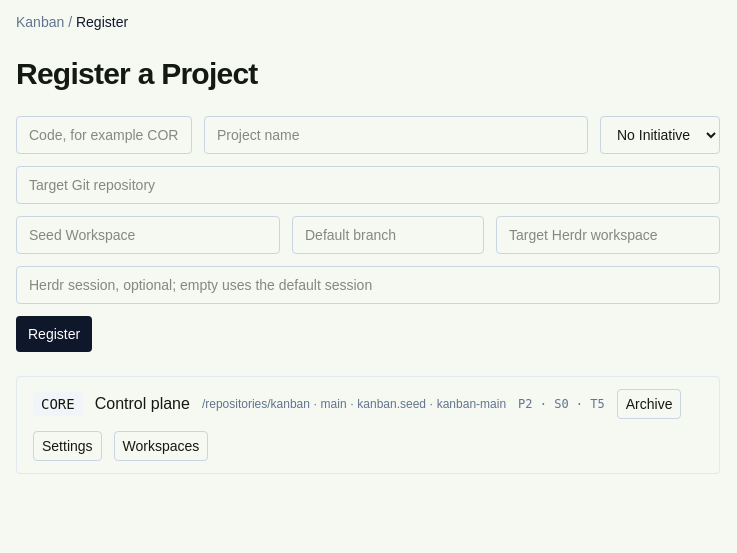
Test: RegisterView › shows the store error when a command is refused
Type "WAVE" into the field with test id "project-code".
click(104, 135); type("WAVE")  # box top-left (16, 116), bottom-right (192, 154)
Type "Wave pool" into the field with test id "project-name".
click(396, 135); type("Wave pool")  # box top-left (204, 116), bottom-right (588, 154)
Type "/repositories/wave" into the field with test id "project-repository".
click(368, 185); type("/repositories/wave")  # box top-left (16, 166), bottom-right (720, 204)
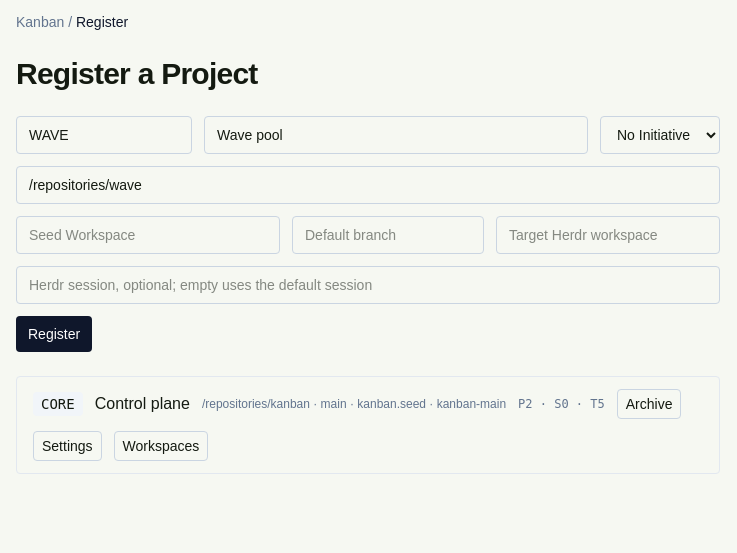
Type "/workspaces/wave.seed" into the field with test id "project-seed".
click(148, 235); type("/workspaces/wave.seed")  # box top-left (16, 216), bottom-right (280, 254)
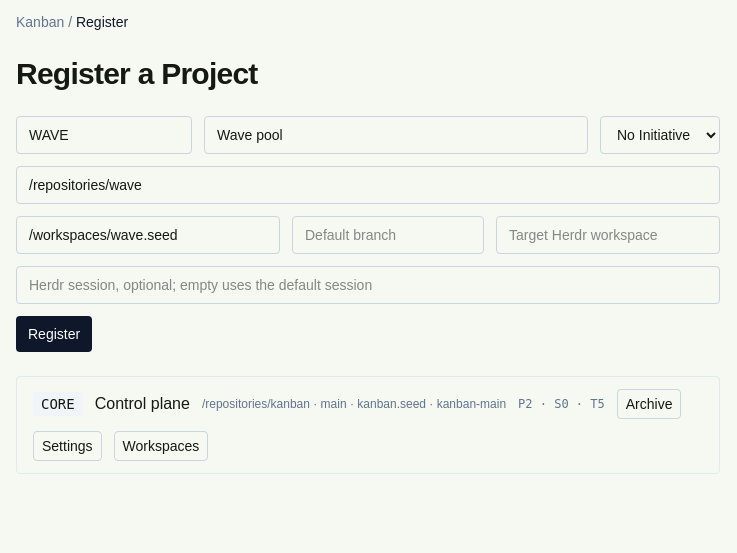
Type "trunk" into the field with test id "project-branch".
click(388, 235); type("trunk")  # box top-left (292, 216), bottom-right (484, 254)
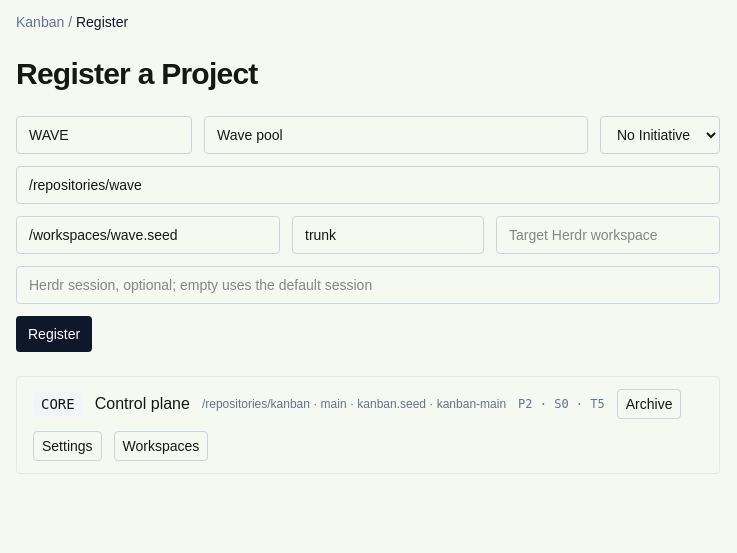
Type "wave.seed" into the field with test id "project-workspace".
click(608, 235); type("wave.seed")  # box top-left (496, 216), bottom-right (720, 254)
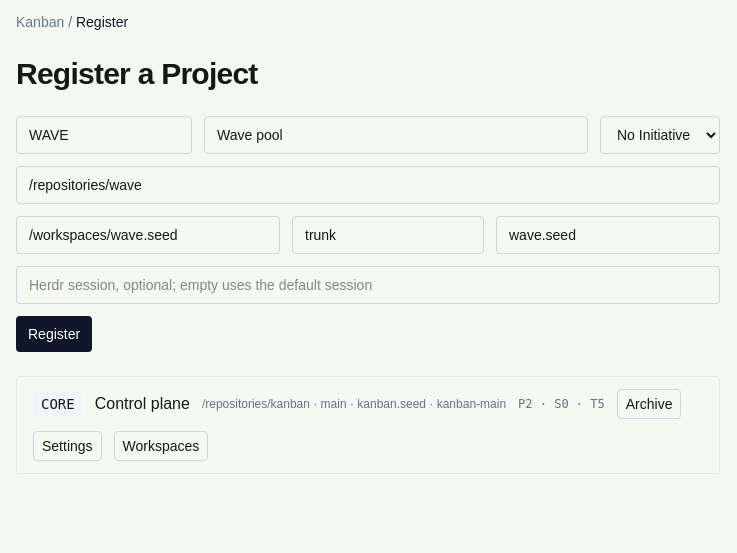
Type "wave-main" into the field with test id "project-session".
click(368, 285); type("wave-main")  # box top-left (16, 266), bottom-right (720, 304)
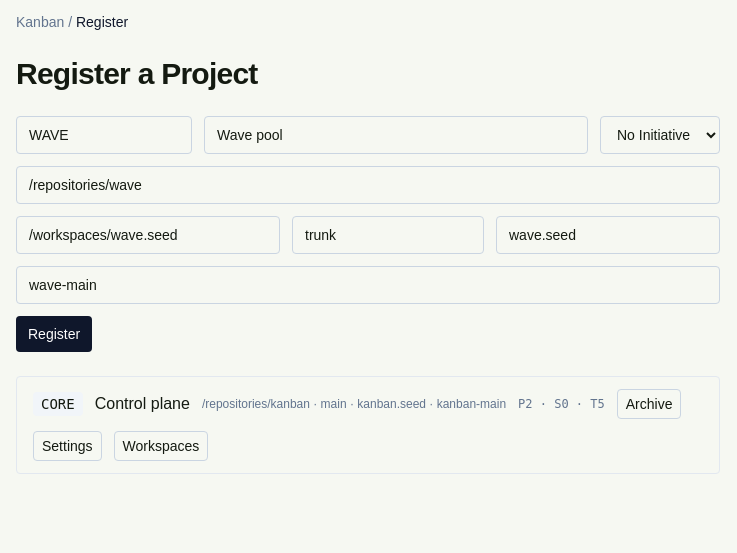
Submit the form from the button with test id "project-register", box top-left (16, 316), bottom-right (92, 352)
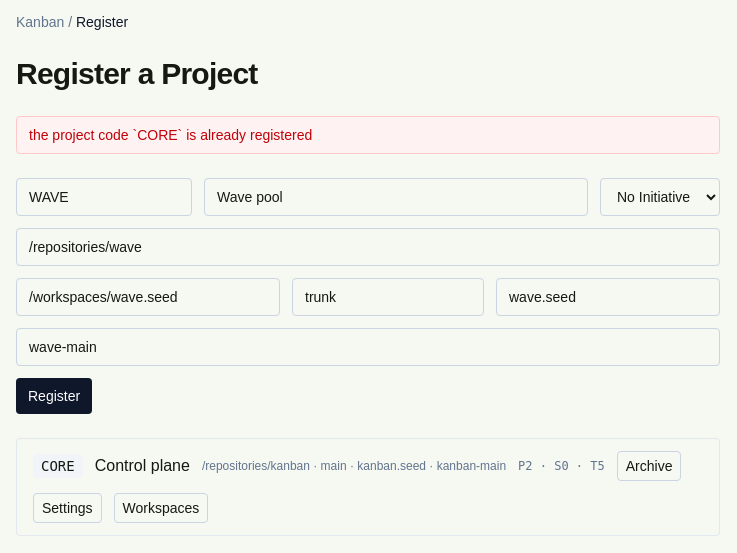
Check: the message with test id "project-error" shows "already registered", box top-left (29, 127), bottom-right (312, 143)
